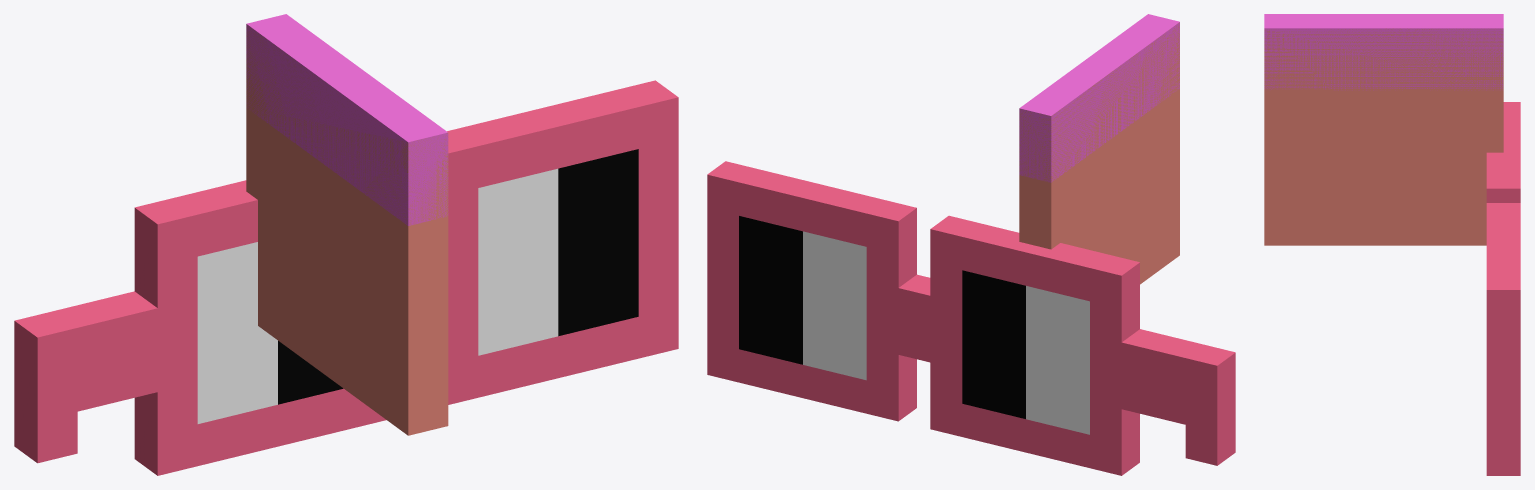
Rendered from donut.glb.
3 views of the same model, side by side, from view 1: azimuth 30°, elevation 25°; view 2: azimuth 150°, elevation 25°; view 3: azimuth 270°, elevation 25° (orthographic). The views are drawn at different scales.
Visible parts, largest first — view 1: glasses, circle-20, layer-2, circle-18; view 2: glasses, layer-2, circle-20, circle-18; view 3: circle-20, circle-18, glasses.
Part boxes in pixels (<box>): glasses: <box>14,80,678,475</box>; circle-20: <box>246,14,448,435</box>; layer-2: <box>197,149,638,423</box>; circle-18: <box>246,25,448,433</box>; glasses: <box>707,161,1235,475</box>; layer-2: <box>739,216,1089,434</box>; circle-20: <box>1019,14,1179,284</box>; circle-18: <box>1019,23,1179,283</box>; circle-20: <box>1264,14,1503,245</box>; circle-18: <box>1264,28,1503,245</box>; glasses: <box>1486,102,1520,475</box>.
Bounding box in the file's own units: 16 × 10 × 7.5.
7 materials, 7 textured.
